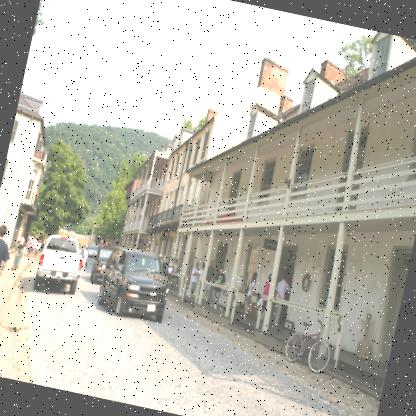Car: (95, 244, 174, 324), (32, 232, 86, 297), (88, 245, 112, 287), (86, 242, 98, 258)
